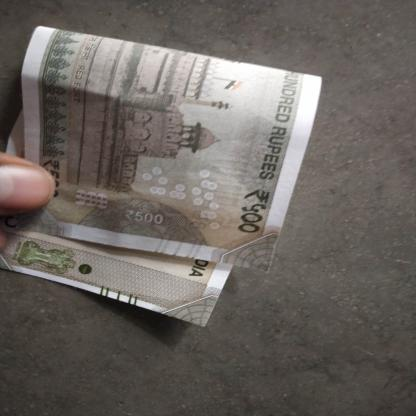New500Back: (40, 32, 274, 240)
